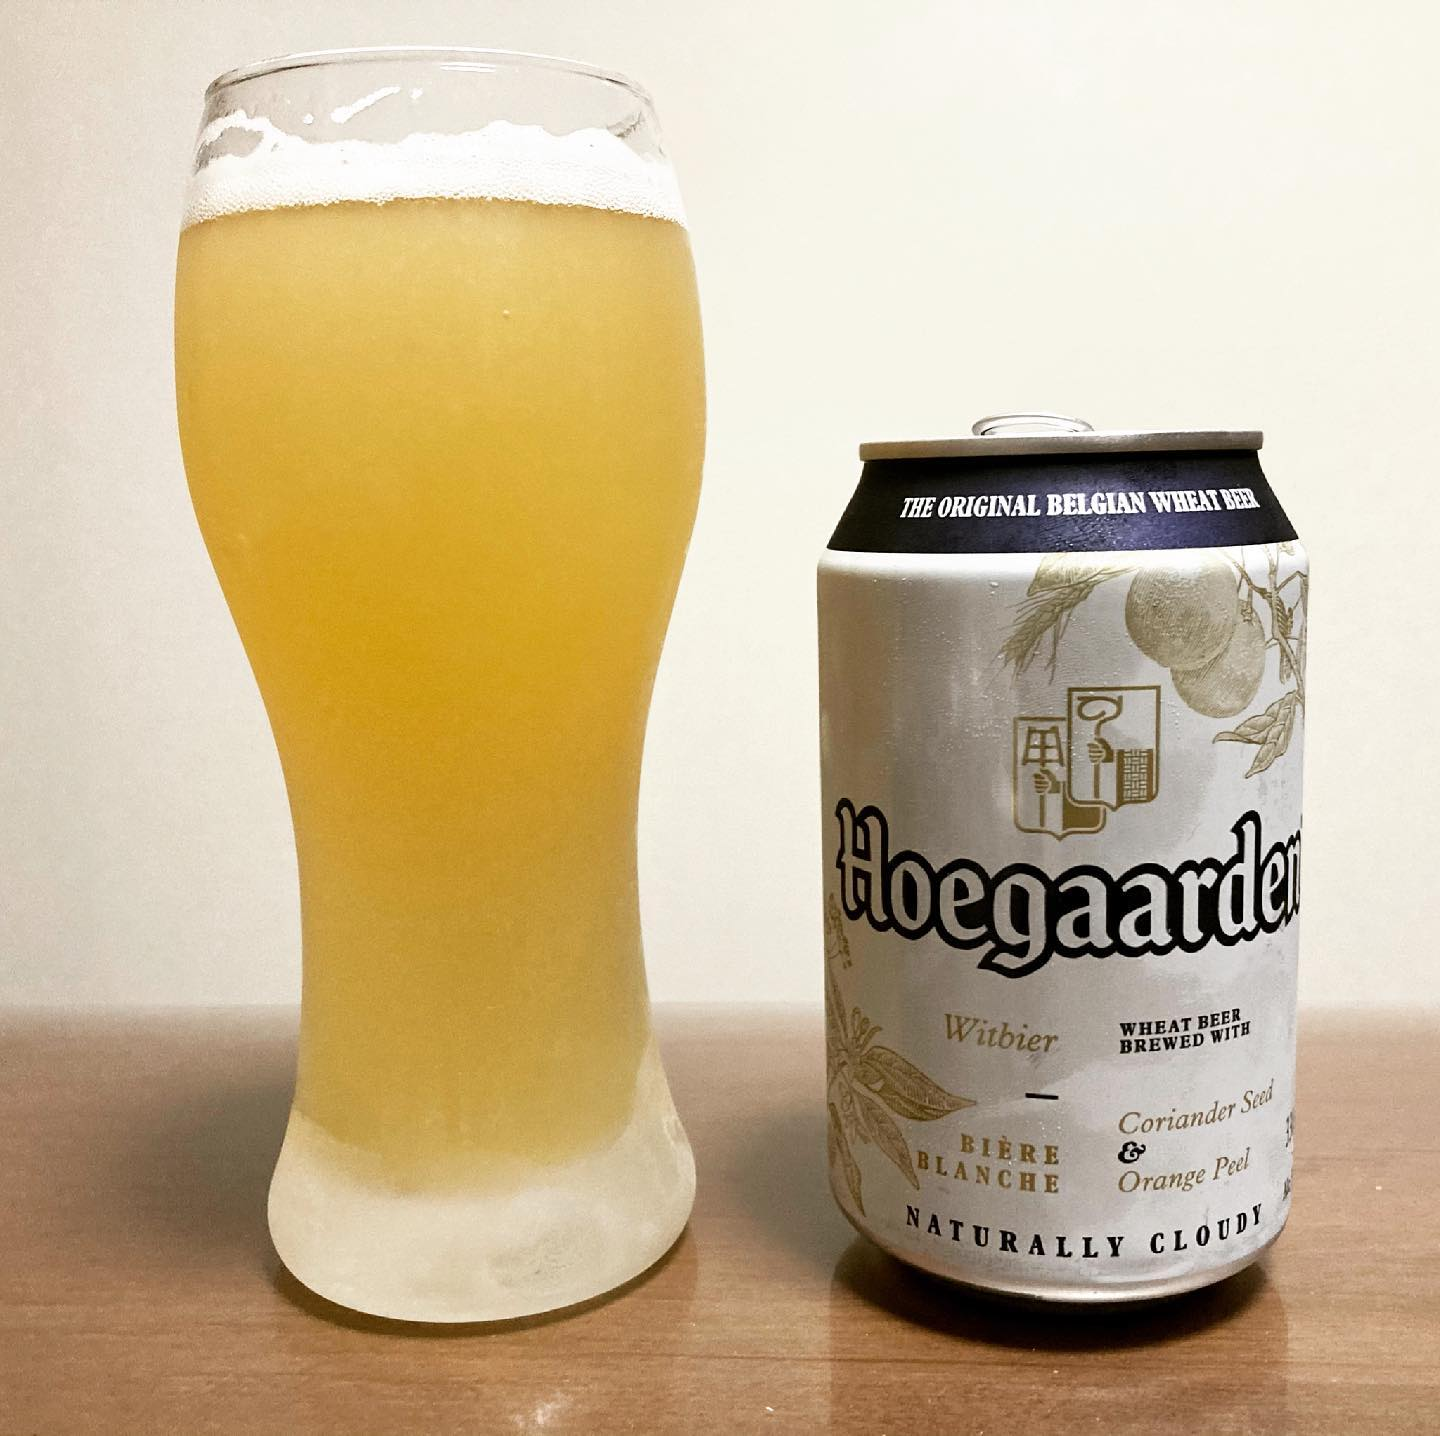alcohol: (164, 36, 721, 1340), (805, 402, 1316, 1312)
